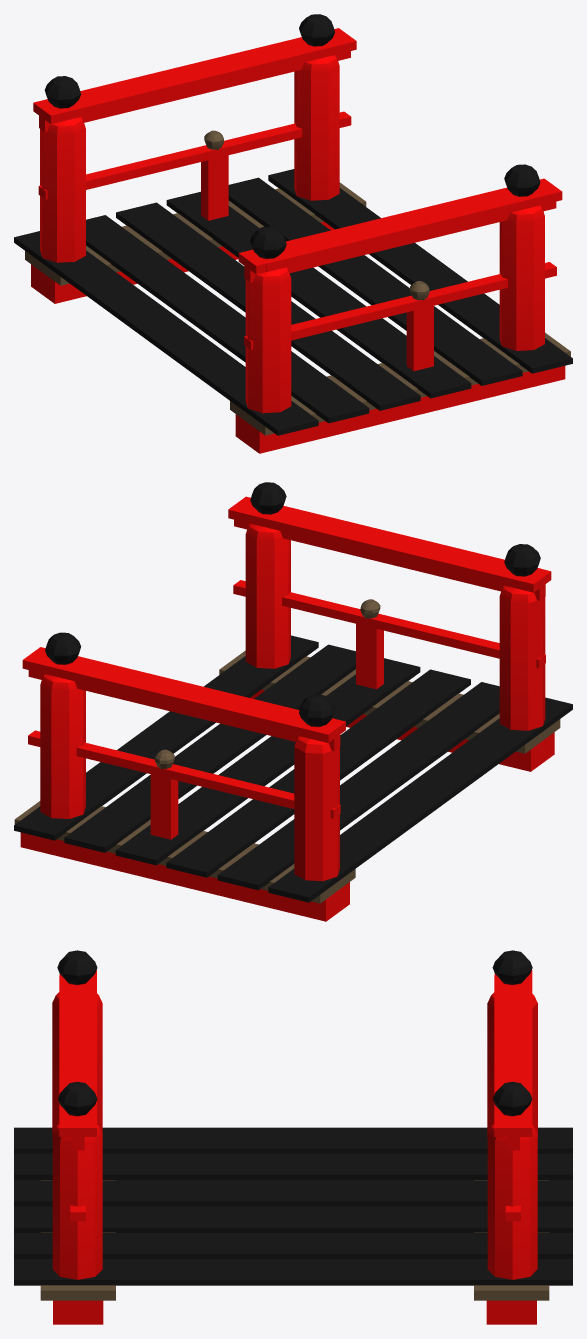
The model's file is PontElements.FBX.
3 renders of one model, top to bottom at view 1: azimuth 30°, elevation 25°; view 2: azimuth 150°, elevation 25°; view 3: azimuth 270°, elevation 25°, orthographic. The views are drawn at different scales.
Visible parts, largest first — view 1: BridgeEnd1, BridgeMid, BridgeEnd2; view 2: BridgeMid, BridgeEnd2, BridgeEnd1; view 3: BridgeEnd2, BridgeEnd1, BridgeMid.
Boxes of the visible parts, x1=… form: BridgeEnd1: x1=14, y1=28, x2=570, y2=453; BridgeMid: x1=25, y1=28, x2=572, y2=453; BridgeEnd2: x1=15, y1=14, x2=544, y2=414; BridgeMid: x1=14, y1=508, x2=572, y2=921; BridgeEnd2: x1=14, y1=482, x2=572, y2=902; BridgeEnd1: x1=14, y1=496, x2=572, y2=903; BridgeEnd2: x1=14, y1=951, x2=572, y2=1324; BridgeEnd1: x1=14, y1=950, x2=572, y2=1324; BridgeMid: x1=14, y1=950, x2=572, y2=1324.
Size of the model in its own units: 3 by 1.98 by 4.49.
